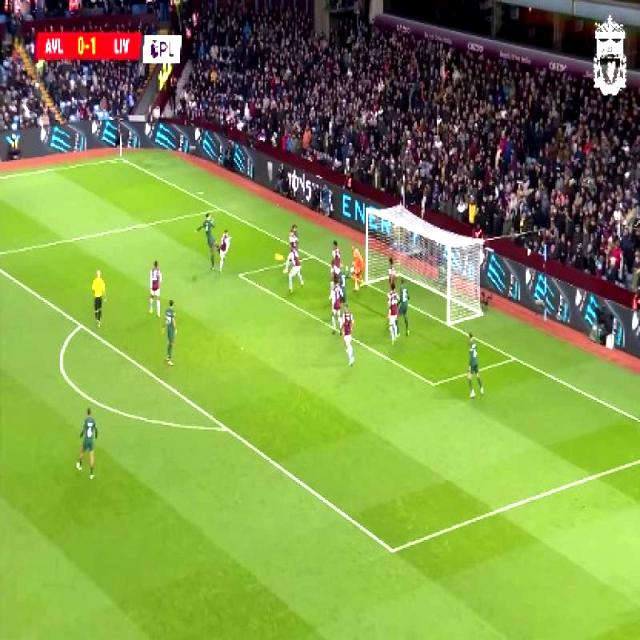bigarea_bottom_inner: (382, 534, 402, 564)
bigarea_top_outter: (212, 200, 225, 215)
bottom_arc_area_intersection: (217, 415, 235, 440)
corner: (109, 150, 126, 165)
smallarea_bottom_inner: (424, 370, 442, 396)
smallarea_bottom_outter: (506, 348, 522, 366)
smallarea_top_inner: (232, 265, 246, 283)
smallarea_top_outter: (304, 246, 319, 264)
top_arc_area_intersection: (72, 314, 90, 336)
